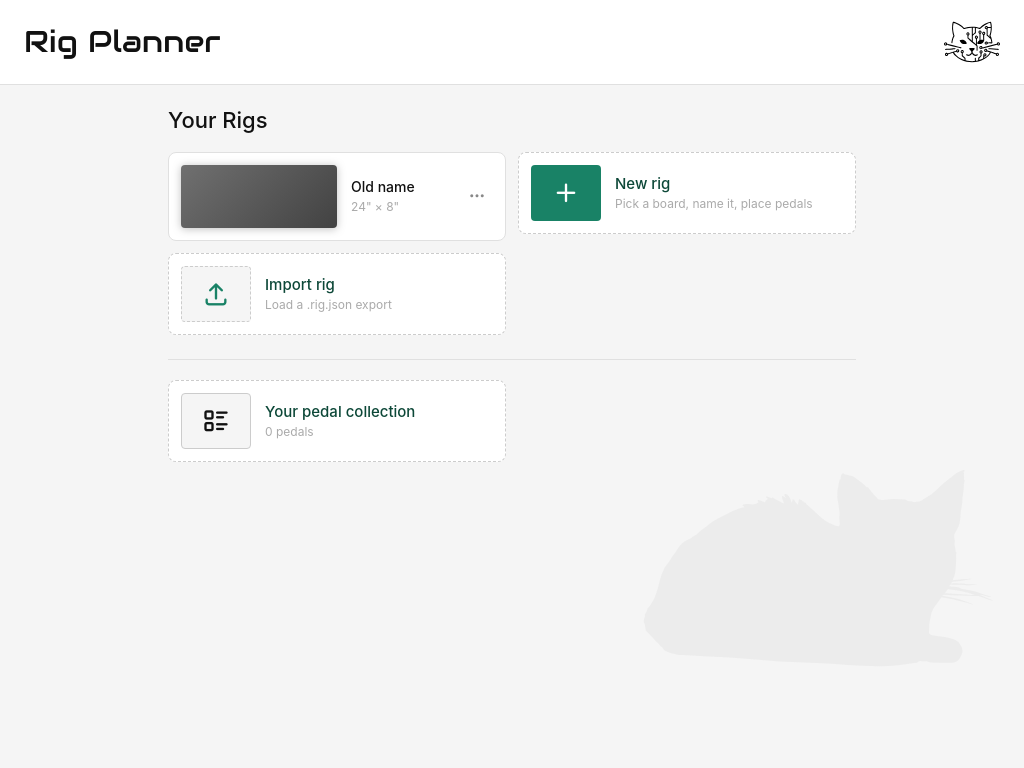
Test: RigList › opens the actions sheet and can rename
Click the button named "Rig actions" at (477, 196), box [468,187,486,205]
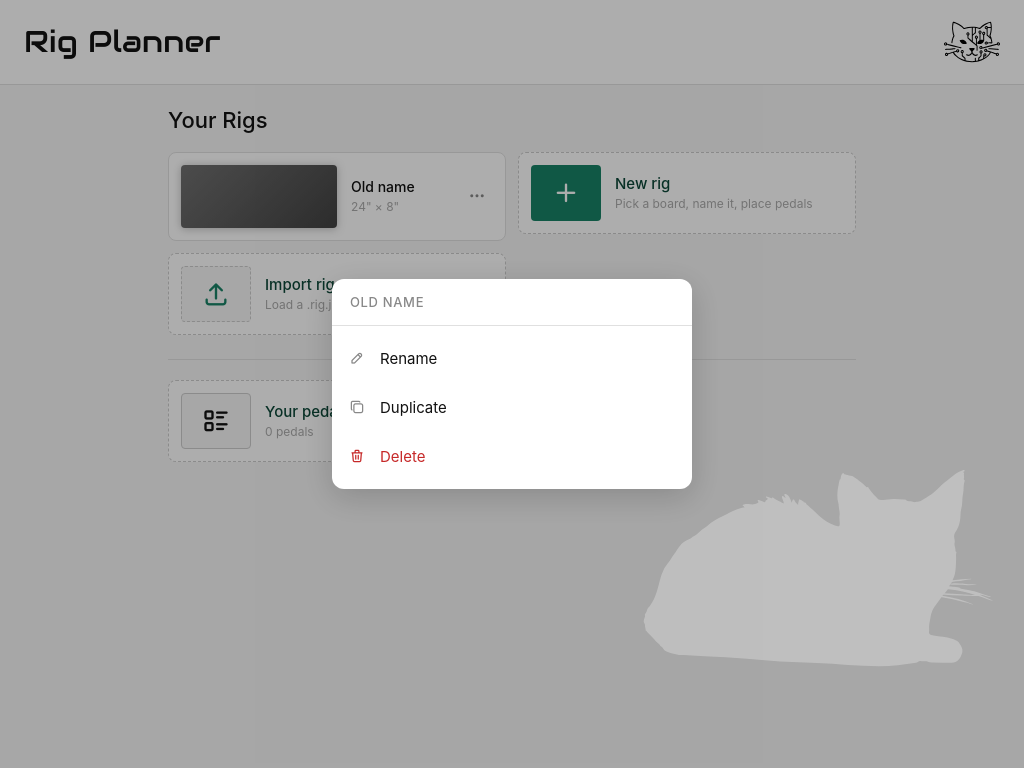
Click the button "Rename" at (409, 359), box [332,334,692,383]
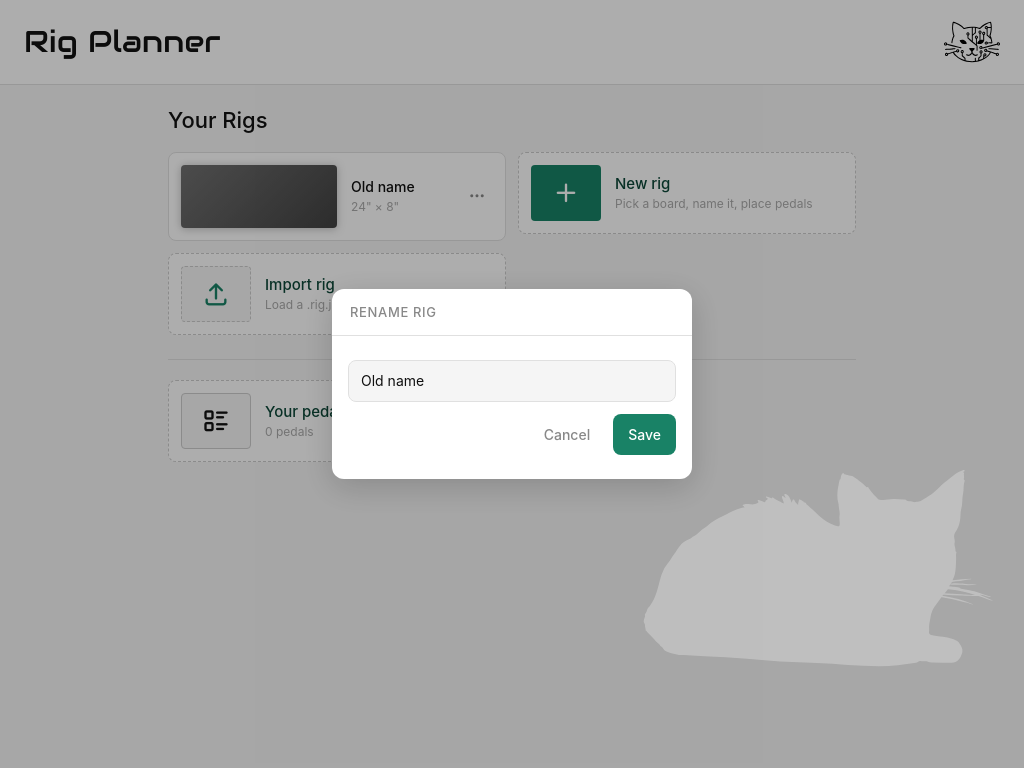
Replace the text in the field showing "Old name" with "New name" at (512, 381), box [348,360,676,402]
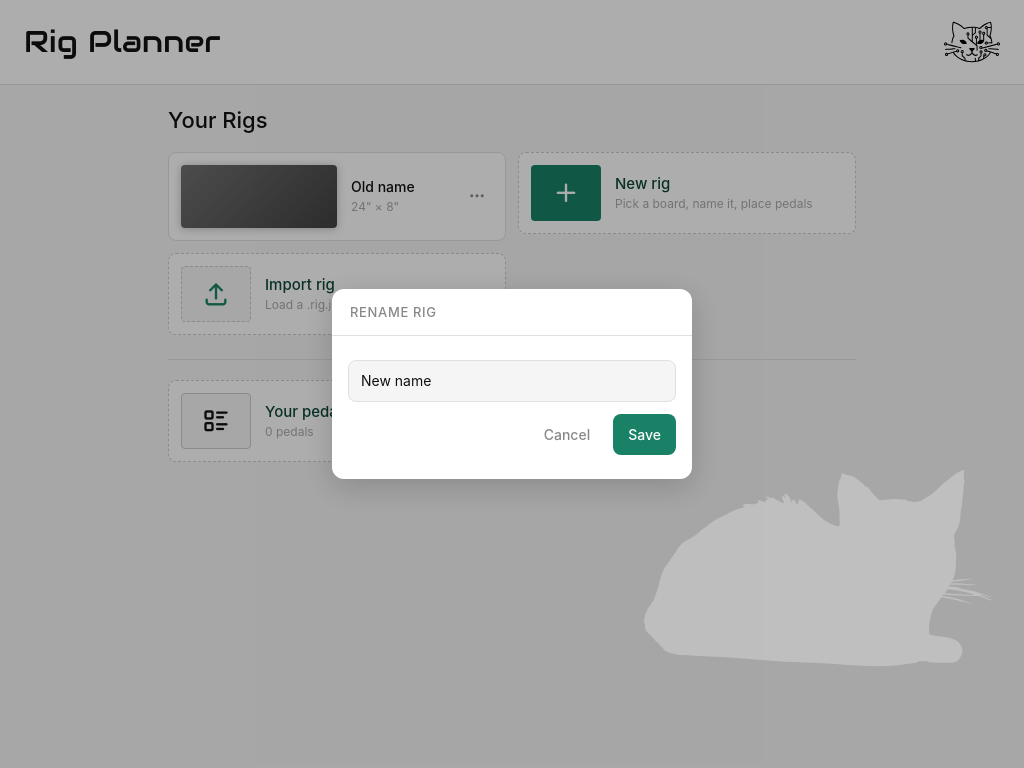
Click the button "Save" at (645, 434), box [613,414,676,455]
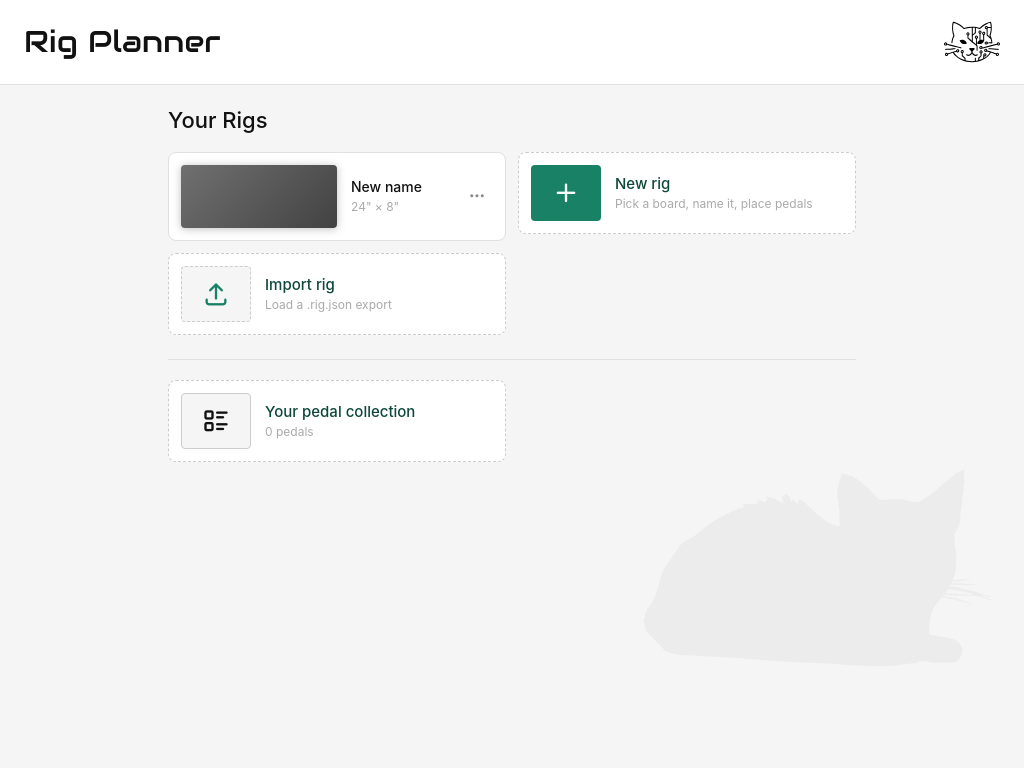
Result: the text "New name" is shown at [351,178,422,195]
